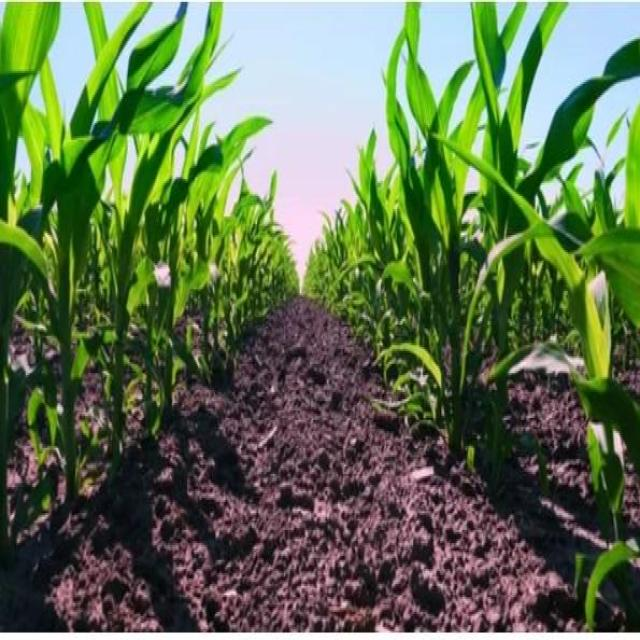row: (0, 288, 636, 633)
